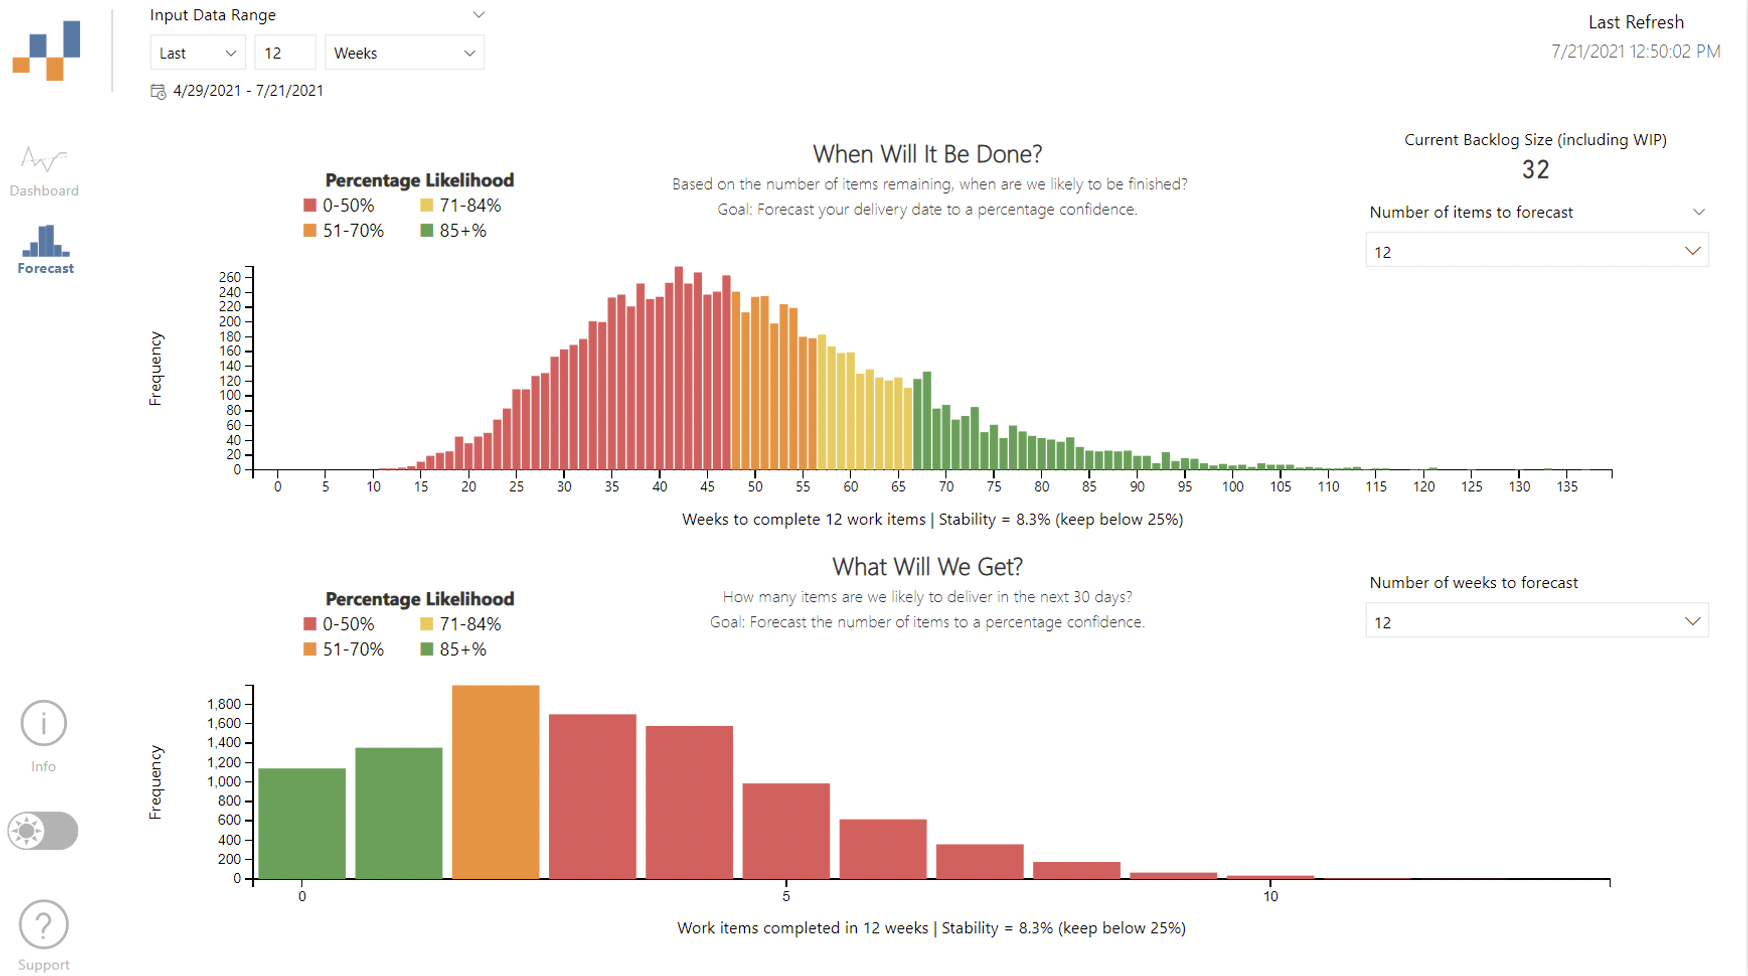

The page's visual inventory and layout, read from the dashboard file:
{"tool":"powerbi","page":{"name":"Forecast","canvas":[1280,720],"ordinal":1},"visuals":[{"type":"group","id":"g1","title":"Forecast - Light","box":[0,0,1279.7,720],"z":0},{"type":"image","box":[0,98.1,65.7,43.9],"z":0,"group":"g2"},{"type":"textbox","title":"Quality - How Well","box":[98.1,98.1,1166.1,73],"z":0,"group":"g1"},{"type":"image","box":[1.1,154.4,65.1,43],"z":0,"group":"g3"},{"type":"actionButton","box":[0,98.1,65.7,54.9],"z":1000,"group":"g2"},{"type":"actionButton","box":[1.1,153.3,65.1,56.2],"z":1000,"group":"g3"},{"type":"textbox","title":"Productivity - How Much","box":[98.1,399.5,1166.1,80.1],"z":1000,"group":"g1"},{"type":"group","id":"g2","title":"Group 1","box":[0,98.1,65.8,55],"z":2000,"group":"g1"},{"type":"image","box":[0,575.1,63.6,72.4],"z":3000,"group":"g1"},{"type":"card","title":"Last Refresh","fields":{"Values":["Min(Data Refresh.DateTime)"]},"box":[1119.3,9.4,160.3,48.7],"z":4000,"group":"g1"},{"type":"slicer","fields":{"Values":["Dates.WeekStartingDate"]},"box":[98.1,0,271.5,80.1],"z":5000,"group":"g1"},{"type":"card","title":"Current Backlog Size (including WIP)","fields":{"Values":["Count(WorkItems In Progress.ID)"]},"box":[990.4,96.5,272.5,46.7],"z":6000,"group":"g1"},{"type":"image","box":[1.2,0,65.8,80.1],"z":7000,"group":"g1"},{"type":"basicShape","box":[65.8,0,32.3,80.1],"z":8000,"group":"g1"},{"type":"actionButton","title":"Button","box":[0,647.9,65.2,72.1],"z":10000,"group":"g1"},{"type":"group","id":"g3","title":"Group 2","box":[1.1,153.3,65.1,56.2],"z":15000,"group":"g1"},{"type":"D3JSVisual_PBI_CV_CDD143DEC3A145E7A507B562AF6CF490","title":"What Will We Get?","fields":{"dataset":["Dates.WeekStartingDate","WorkItems Completed.CompletedDate","Sum(Number of weeks to forecast.Number of weeks)"]},"box":[98.8,478.6,1164.2,226],"z":17000,"group":"g1"},{"type":"textbox","box":[217.5,426.3,182.9,69.2],"z":19000,"group":"g1"},{"type":"textbox","box":[217.1,119.8,182.6,68.9],"z":20000,"group":"g1"},{"type":"D3JSVisual_PBI_CV_CDD143DEC3A145E7A507B562AF6CF490","title":"When Will It Be Done?","fields":{"dataset":["Dates.WeekStartingDate","WorkItems Completed.CompletedDate","Sum(Number of remaining items.Number of remaining items)"]},"box":[98.2,170.8,1165.3,233.1],"z":21000,"group":"g1"},{"type":"slicer","fields":{"Values":["Number of weeks to forecast.Number of weeks"]},"box":[992,416,272,64],"z":22000,"group":"g1"},{"type":"slicer","fields":{"Values":["Number of remaining items.Number of remaining items"]},"box":[992,144,272,64],"z":23000,"group":"g1"},{"type":"actionButton","title":"Info","box":[1.2,501.6,61.8,72.9],"z":24000,"group":"g1"}]}

Visuals, with their boxes on the page's 1280x720 design canvas (x1, y1, x2, y2). These are canvas units, not pixel positions in the 1748x976 screenshot, which may show the page scaled, cropped or inside an application window:
"Forecast - Light" group: 0, 0, 1280, 720
image: 0, 98, 66, 142
"Quality - How Well" textbox: 98, 98, 1264, 171
image: 1, 154, 66, 197
actionButton: 0, 98, 66, 153
actionButton: 1, 153, 66, 210
"Productivity - How Much" textbox: 98, 400, 1264, 480
"Group 1" group: 0, 98, 66, 153
image: 0, 575, 64, 648
"Last Refresh" card: 1119, 9, 1280, 58
slicer - Dates.WeekStartingDate: 98, 0, 370, 80
"Current Backlog Size (including WIP)" card: 990, 96, 1263, 143
image: 1, 0, 67, 80
basicShape: 66, 0, 98, 80
"Button" actionButton: 0, 648, 65, 720
"Group 2" group: 1, 153, 66, 210
"What Will We Get?" D3JSVisual_PBI_CV_CDD143DEC3A145E7A507B562AF6CF490: 99, 479, 1263, 705
textbox: 218, 426, 400, 496
textbox: 217, 120, 400, 189
"When Will It Be Done?" D3JSVisual_PBI_CV_CDD143DEC3A145E7A507B562AF6CF490: 98, 171, 1264, 404
slicer - Number of weeks to forecast.Number of weeks: 992, 416, 1264, 480
slicer - Number of remaining items.Number of remaining items: 992, 144, 1264, 208
"Info" actionButton: 1, 502, 63, 574
